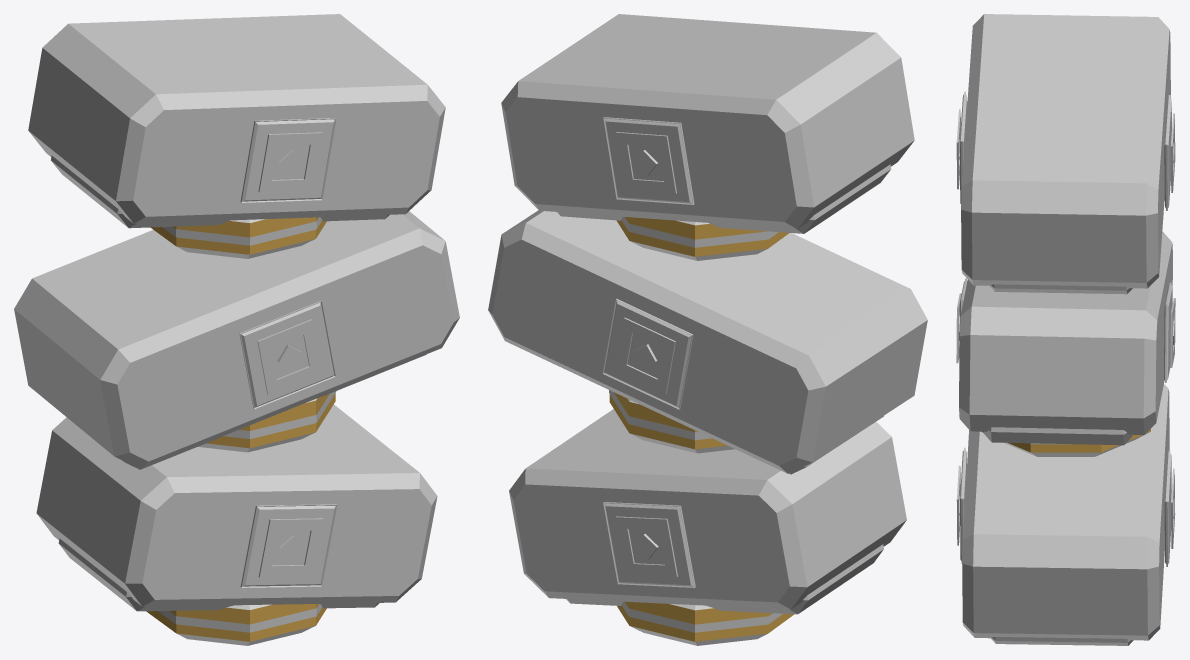
The model's file is wand_motion_20.obj.
3 renders of one model, left to right at view 1: azimuth 30°, elevation 25°; view 2: azimuth 150°, elevation 25°; view 3: azimuth 270°, elevation 25°, orthographic. The views are drawn at different scales.
Parts seen in each view (by area): view 1: chamfered_seal_tablet_1, chamfered_seal_tablet_2, chamfered_seal_tablet_0, inset_rune_socket_3, inset_rune_socket_5, inset_rune_socket_1, tablet_spacer_0, tablet_spacer_2, tablet_spacer_1, seal_shadow_base_0, seal_shadow_base_2, tablet_spacer_dark_seam_0 (+2 smaller); view 2: chamfered_seal_tablet_1, chamfered_seal_tablet_2, chamfered_seal_tablet_0, inset_rune_socket_0, inset_rune_socket_4, inset_rune_socket_2, tablet_spacer_0, tablet_spacer_2, tablet_spacer_1, seal_shadow_base_0, seal_shadow_base_2, tablet_spacer_dark_seam_0 (+2 smaller); view 3: chamfered_seal_tablet_2, chamfered_seal_tablet_0, chamfered_seal_tablet_1, seal_shadow_base_1, tablet_spacer_1, seal_shadow_base_2, seal_shadow_base_0, inset_rune_socket_4, inset_rune_socket_0, inset_rune_socket_2, inset_rune_socket_1, inset_rune_socket_5.
Boxes of the visible parts, left/top/right/bottom form: chamfered_seal_tablet_1: left=14, top=211, right=459, bottom=469; chamfered_seal_tablet_2: left=28, top=14, right=445, bottom=223; chamfered_seal_tablet_0: left=36, top=404, right=437, bottom=606; inset_rune_socket_3: left=239, top=300, right=335, bottom=409; inset_rune_socket_5: left=240, top=118, right=336, bottom=202; inset_rune_socket_1: left=240, top=504, right=337, bottom=587; tablet_spacer_0: left=146, top=604, right=326, bottom=645; tablet_spacer_2: left=150, top=217, right=326, bottom=258; tablet_spacer_1: left=198, top=393, right=335, bottom=452; seal_shadow_base_0: left=58, top=538, right=379, bottom=611; seal_shadow_base_2: left=51, top=155, right=389, bottom=228; tablet_spacer_dark_seam_0: left=158, top=604, right=322, bottom=632; chamfered_seal_tablet_1: left=488, top=210, right=927, bottom=473; chamfered_seal_tablet_2: left=501, top=14, right=914, bottom=229; chamfered_seal_tablet_0: left=509, top=409, right=906, bottom=609; inset_rune_socket_0: left=603, top=502, right=695, bottom=587; inset_rune_socket_4: left=603, top=117, right=694, bottom=204; inset_rune_socket_2: left=602, top=299, right=693, bottom=409; tablet_spacer_0: left=617, top=601, right=793, bottom=645; tablet_spacer_2: left=616, top=217, right=788, bottom=260; tablet_spacer_1: left=609, top=392, right=734, bottom=453; seal_shadow_base_0: left=566, top=544, right=883, bottom=614; seal_shadow_base_2: left=557, top=164, right=891, bottom=233; tablet_spacer_dark_seam_0: left=621, top=601, right=782, bottom=632; chamfered_seal_tablet_2: left=961, top=14, right=1170, bottom=288; chamfered_seal_tablet_0: left=962, top=384, right=1169, bottom=640; chamfered_seal_tablet_1: left=959, top=231, right=1172, bottom=434; seal_shadow_base_1: left=983, top=427, right=1132, bottom=445; tablet_spacer_1: left=981, top=429, right=1150, bottom=456; seal_shadow_base_2: left=989, top=284, right=1132, bottom=294; seal_shadow_base_0: left=991, top=637, right=1133, bottom=645; inset_rune_socket_4: left=1164, top=95, right=1171, bottom=210; inset_rune_socket_0: left=1164, top=450, right=1171, bottom=566; inset_rune_socket_2: left=1164, top=282, right=1172, bottom=382; inset_rune_socket_1: left=960, top=447, right=966, bottom=563; inset_rune_socket_5: left=959, top=91, right=967, bottom=204.
Bounding box in the file's own units: 0.1996 × 0.3094 × 0.1147.
